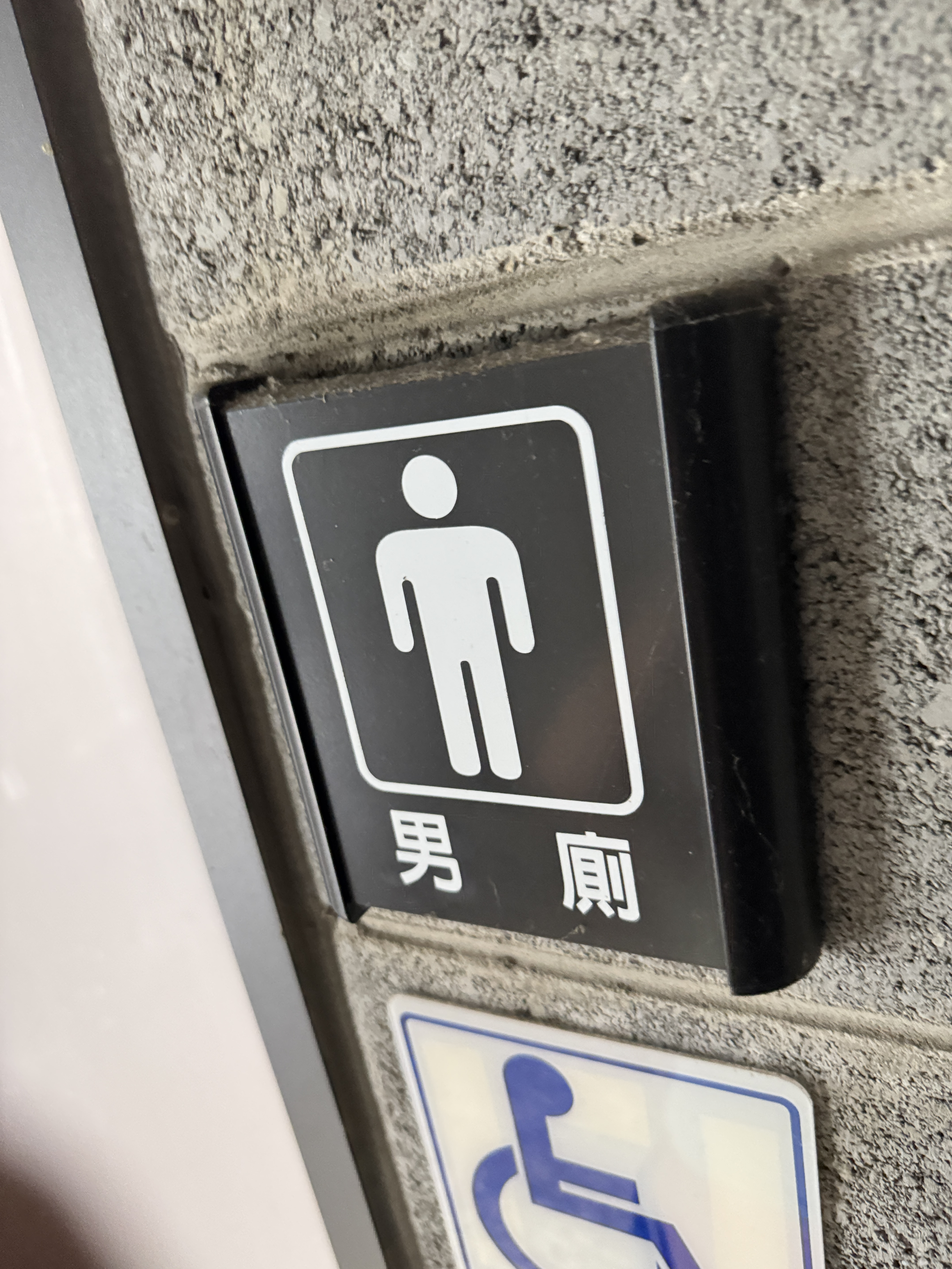toilet_sign: (148, 299, 847, 1001)
